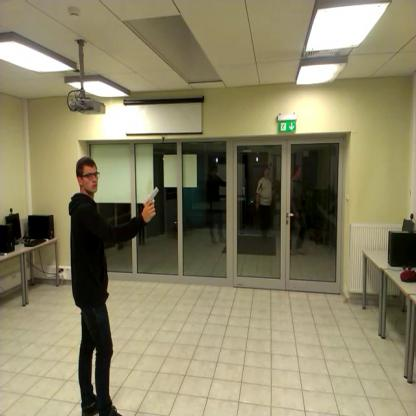Pistol: (140, 180, 164, 220)
